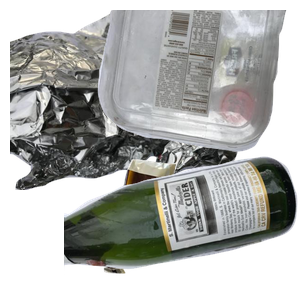glass: (64, 154, 300, 300)
metal: (10, 10, 250, 190)
plastic: (95, 10, 300, 154)
trash: (101, 157, 270, 300)
